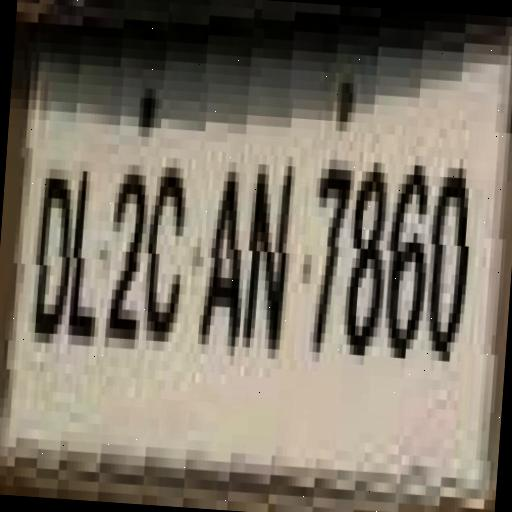number plate: (0, 50, 495, 508)
